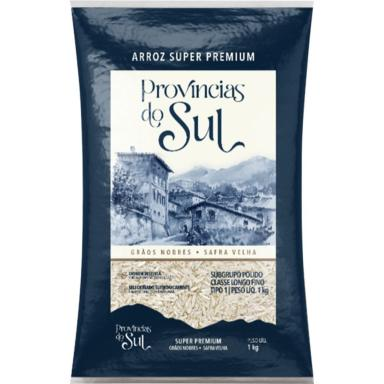rice package: (72, 1, 312, 383)
